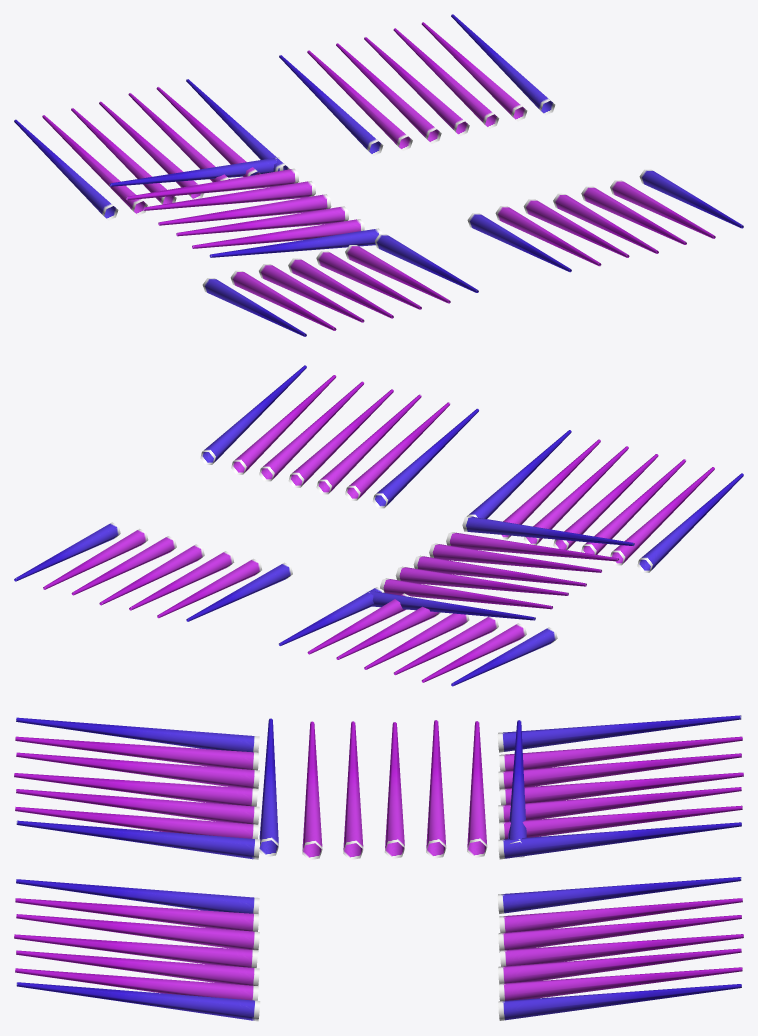
Rendered from SpotLight_Rays.FBX.
The picture shows the model from 3 angles, top to bottom: view 1: azimuth 30°, elevation 25°; view 2: azimuth 150°, elevation 25°; view 3: azimuth 270°, elevation 25°; orthographic projection. The views are drawn at different scales.
Visible parts, largest first — view 1: SpotLight_Ray_17, SpotLight_Ray_19, SpotLight_Ray_16, SpotLight_Ray_18, SpotLight_Ray_21, SpotLight_Ray_20, SpotLight_Ray_15, SpotLight_Ray_12, SpotLight_Ray_14, SpotLight_Ray_13, SpotLight_Ray_01, SpotLight_Ray_09 (+23 smaller); view 2: SpotLight_Ray_21, SpotLight_Ray_19, SpotLight_Ray_17, SpotLight_Ray_20, SpotLight_Ray_16, SpotLight_Ray_18, SpotLight_Ray_15, SpotLight_Ray_22, SpotLight_Ray_29, SpotLight_Ray_35, SpotLight_Ray_31, SpotLight_Ray_34 (+23 smaller); view 3: SpotLight_Ray_35, SpotLight_Ray_28, SpotLight_Ray_24, SpotLight_Ray_31, SpotLight_Ray_26, SpotLight_Ray_33, SpotLight_Ray_23, SpotLight_Ray_32, SpotLight_Ray_25, SpotLight_Ray_30, SpotLight_Ray_29, SpotLight_Ray_08 (+23 smaller).
Boxes of the visible parts, left/top/right/bottom form: SpotLight_Ray_17: left=143, top=181, right=315, bottom=210; SpotLight_Ray_19: left=176, top=206, right=348, bottom=236; SpotLight_Ray_16: left=126, top=168, right=299, bottom=200; SpotLight_Ray_18: left=158, top=194, right=331, bottom=225; SpotLight_Ray_21: left=209, top=228, right=382, bottom=257; SpotLight_Ray_20: left=192, top=219, right=364, bottom=248; SpotLight_Ray_15: left=109, top=157, right=283, bottom=186; SpotLight_Ray_12: left=393, top=28, right=499, bottom=128; SpotLight_Ray_14: left=451, top=14, right=555, bottom=115; SpotLight_Ray_13: left=421, top=22, right=527, bottom=121; SpotLight_Ray_01: left=14, top=119, right=118, bottom=220; SpotLight_Ray_09: left=307, top=50, right=412, bottom=150; SpotLight_Ray_21: left=462, top=516, right=634, bottom=546; SpotLight_Ray_19: left=429, top=543, right=601, bottom=572; SpotLight_Ray_17: left=395, top=566, right=568, bottom=595; SpotLight_Ray_20: left=446, top=532, right=619, bottom=561; SpotLight_Ray_16: left=380, top=578, right=552, bottom=609; SpotLight_Ray_18: left=413, top=555, right=586, bottom=586; SpotLight_Ray_15: left=365, top=590, right=535, bottom=620; SpotLight_Ray_22: left=637, top=473, right=743, bottom=572; SpotLight_Ray_29: left=372, top=408, right=479, bottom=508; SpotLight_Ray_35: left=200, top=365, right=306, bottom=464; SpotLight_Ray_31: left=316, top=394, right=421, bottom=494; SpotLight_Ray_34: left=231, top=375, right=336, bottom=474; SpotLight_Ray_35: left=16, top=982, right=260, bottom=1021; SpotLight_Ray_28: left=16, top=820, right=260, bottom=859; SpotLight_Ray_24: left=16, top=752, right=259, bottom=790; SpotLight_Ray_31: left=16, top=914, right=259, bottom=951; SpotLight_Ray_26: left=16, top=789, right=259, bottom=824; SpotLight_Ray_33: left=16, top=950, right=259, bottom=985; SpotLight_Ray_23: left=15, top=736, right=258, bottom=770; SpotLight_Ray_32: left=14, top=934, right=257, bottom=967; SpotLight_Ray_25: left=14, top=773, right=257, bottom=806; SpotLight_Ray_30: left=15, top=898, right=258, bottom=931; SpotLight_Ray_29: left=16, top=879, right=259, bottom=913; SpotLight_Ray_08: left=497, top=877, right=741, bottom=913.
Size of the model in its own units: 23346 by 1673 by 26037.
1 material, 1 textured.
